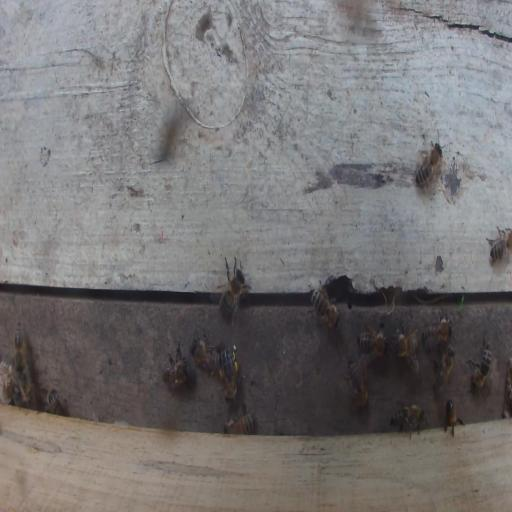nonpollenbee: (208, 254, 253, 328), (306, 278, 343, 332), (415, 127, 446, 191), (340, 351, 370, 410), (190, 326, 224, 376), (389, 316, 419, 371), (356, 321, 389, 369), (388, 402, 430, 439), (466, 332, 492, 390), (162, 341, 190, 393), (422, 307, 453, 352), (431, 342, 456, 394), (223, 396, 255, 436), (484, 225, 512, 266), (444, 398, 465, 438), (18, 370, 37, 412), (36, 387, 61, 414), (13, 319, 24, 372)
pollen: (218, 368, 224, 380), (233, 361, 238, 373)
pollenbee: (215, 341, 239, 405)
